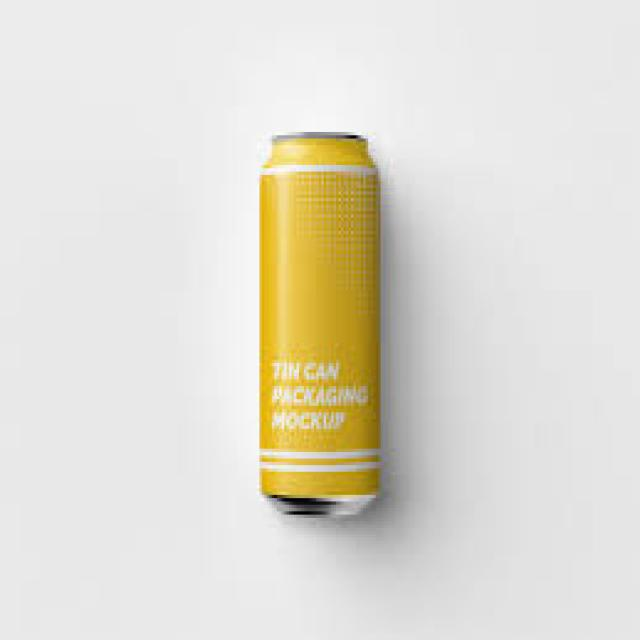Cans: (252, 122, 388, 528)
